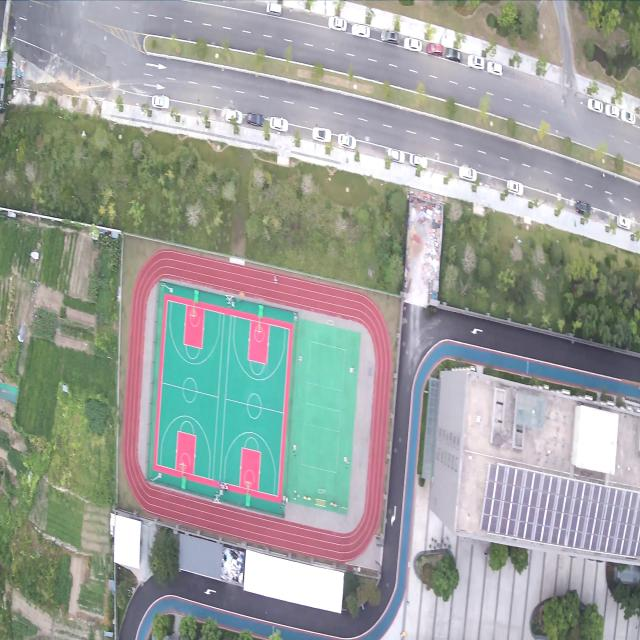UAV: (367, 267, 375, 279)
